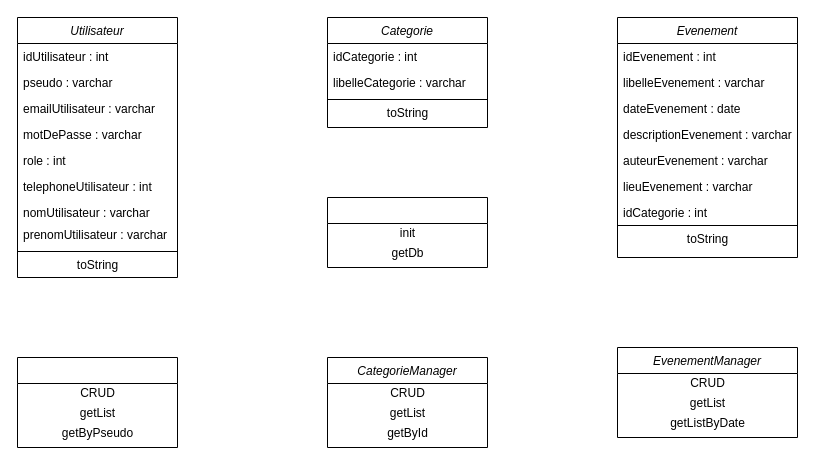
Image size: 815x465. Some labels were removed from this diagram. Here are the shapes that lost their labels. From the top down, the box of each, then its label:
(326, 196, 488, 268): dbConnect
(16, 356, 178, 448): UtilisateurManager
